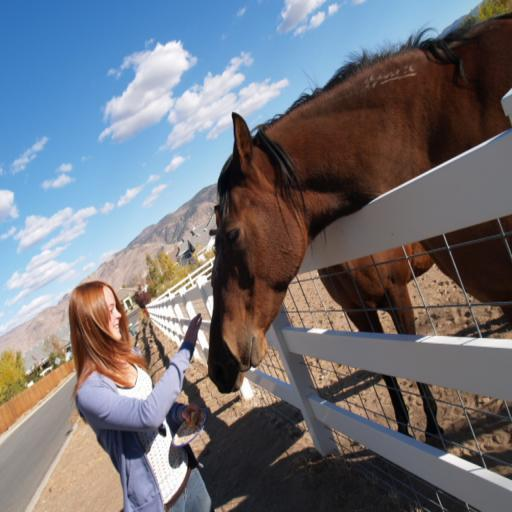horse: (206, 10, 512, 450), (318, 237, 441, 447)
